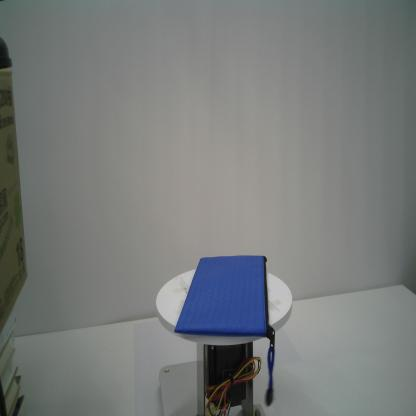Stationery: (173, 254, 276, 408)
